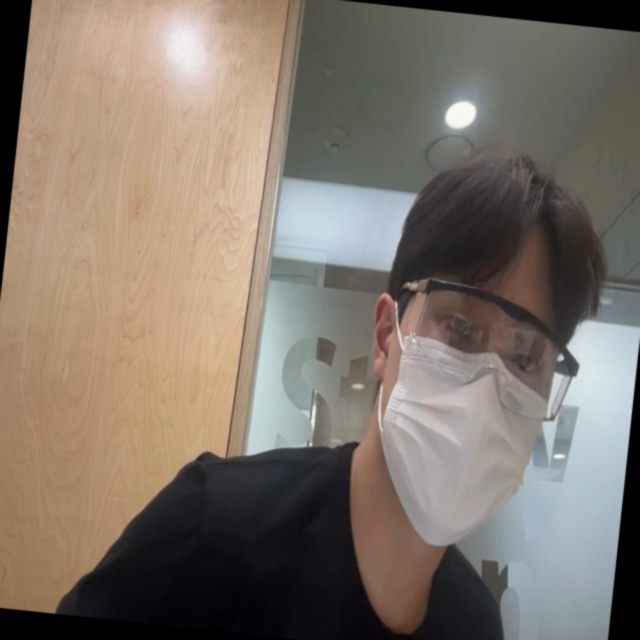goggles_on: (364, 261, 567, 556), (380, 260, 593, 431)
